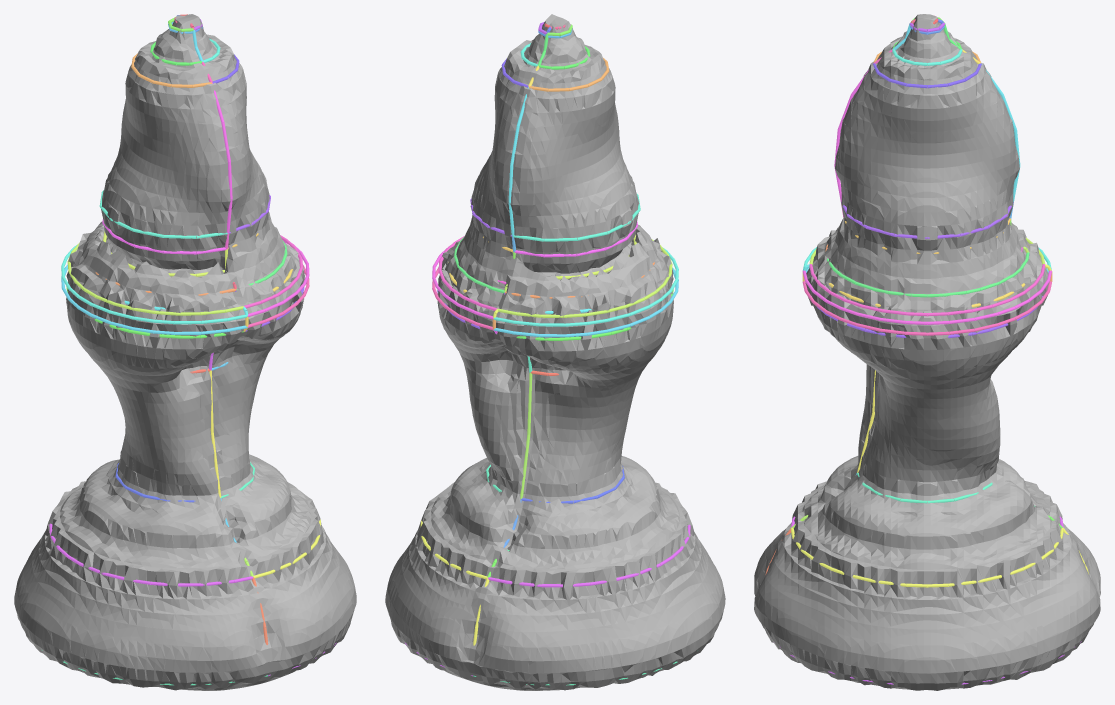
Rendered from onshape_bishop.gltf.
3 renders of one model, left to right at view 1: azimuth 30°, elevation 25°; view 2: azimuth 150°, elevation 25°; view 3: azimuth 270°, elevation 25°, orthographic.
Bounding box in the file's own units: 0.4281 × 0.8832 × 0.4309.
